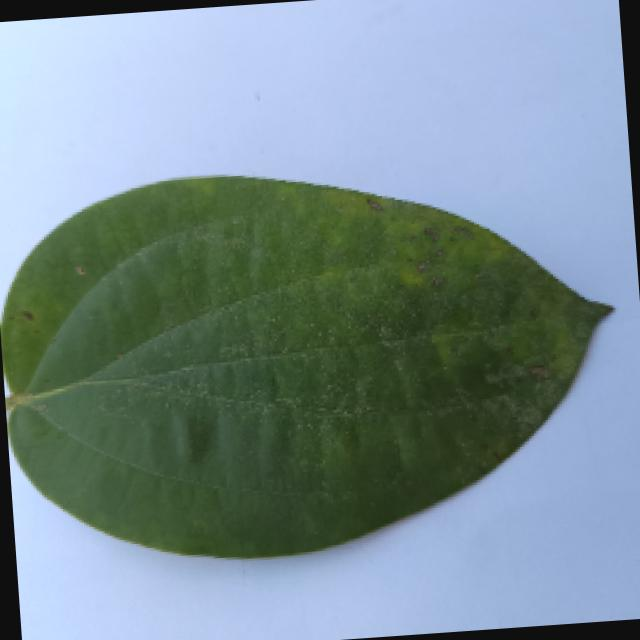slow-decline: (2, 142, 640, 586)
